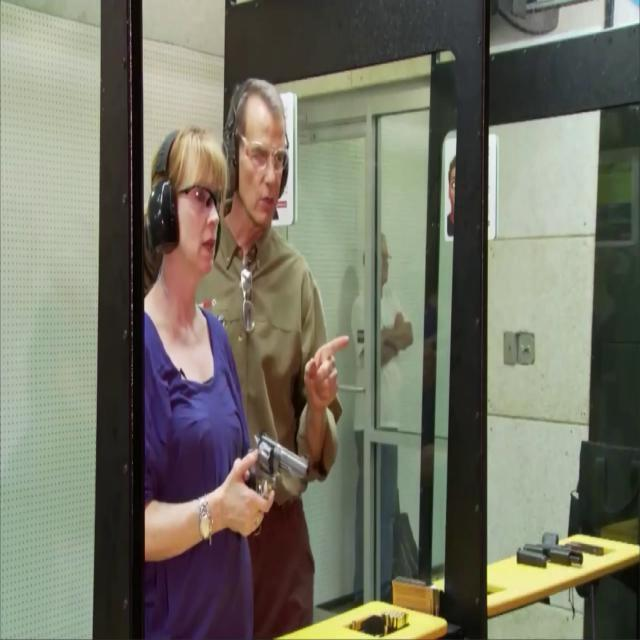weapon: (243, 430, 309, 500)
